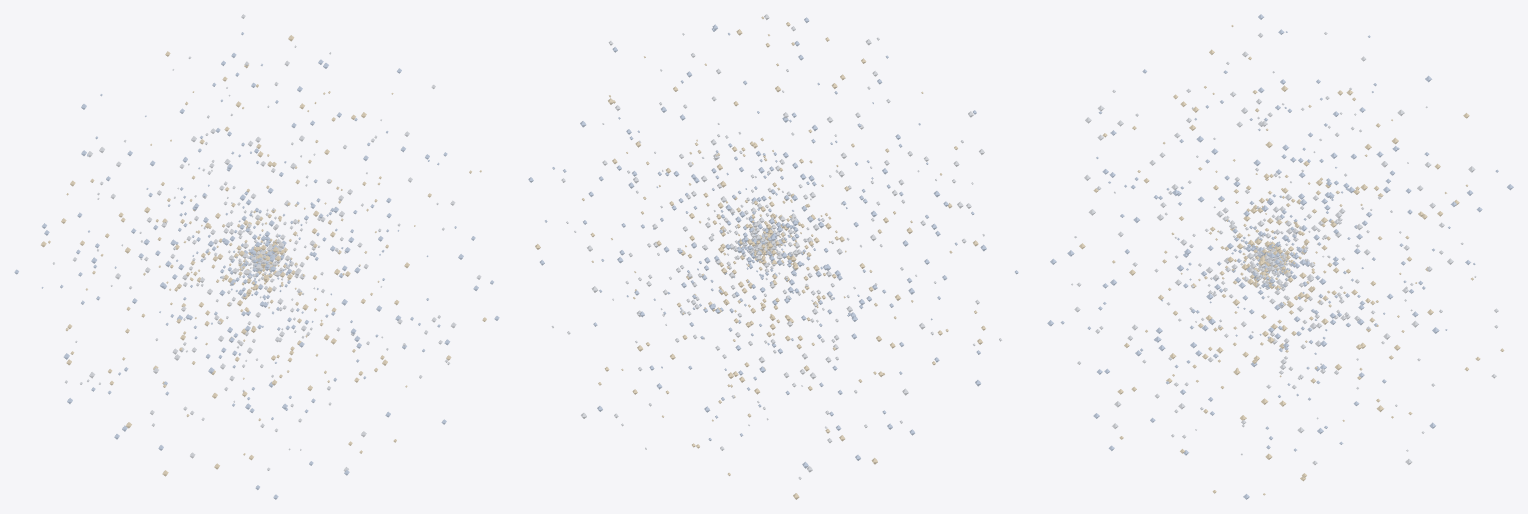
The picture shows the model from 3 angles, left to right: view 1: azimuth 30°, elevation 25°; view 2: azimuth 150°, elevation 25°; view 3: azimuth 270°, elevation 25°; orthographic projection. The views are drawn at different scales.
Size of the model in its own units: 4.94 by 4.89 by 4.72.
